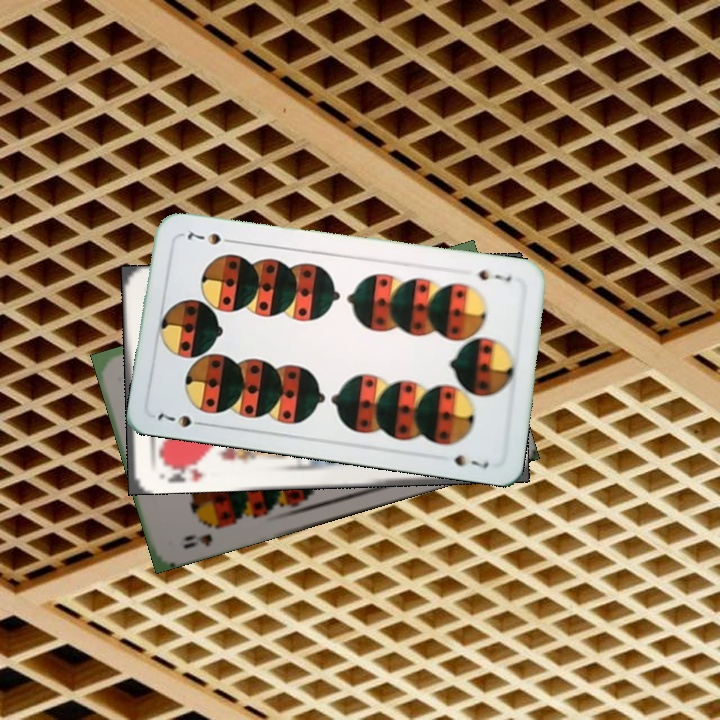HK: (158, 457, 206, 485)
S7: (154, 409, 210, 430), (474, 265, 514, 285)
S9: (179, 518, 229, 552)
